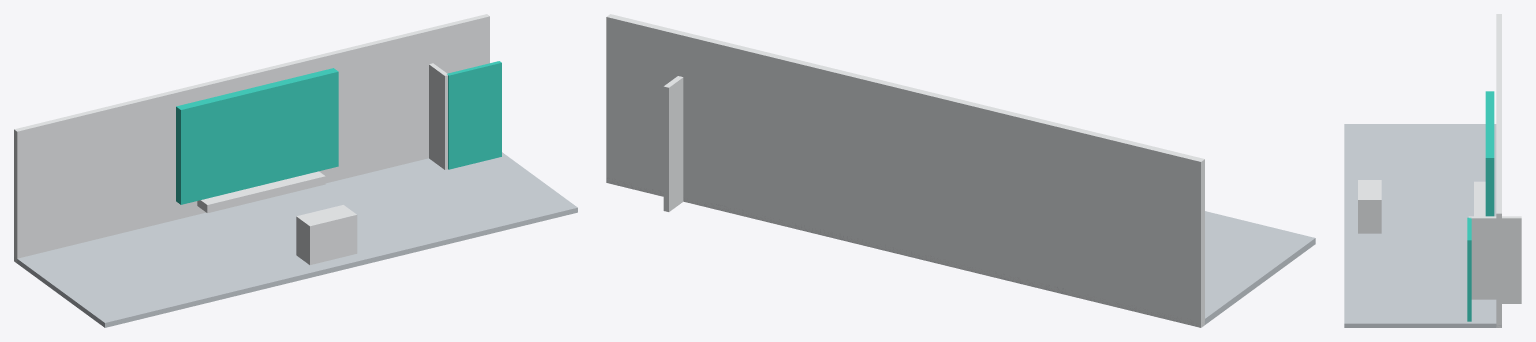
3 renders of one model, left to right at view 1: azimuth 30°, elevation 25°; view 2: azimuth 150°, elevation 25°; view 3: azimuth 270°, elevation 25°, orthographic. The views are drawn at different scales.
Visible parts, largest first — view 1: Exhibition Booth Concept; view 2: Exhibition Booth Concept; view 3: Exhibition Booth Concept.
Boxes of the visible parts, x1=… form: Exhibition Booth Concept: x1=14, y1=14, x2=577, y2=327; Exhibition Booth Concept: x1=606, y1=14, x2=1315, y2=327; Exhibition Booth Concept: x1=1344, y1=14, x2=1521, y2=327.
Bounding box in the file's own units: 12 × 3.2 × 4.51.
